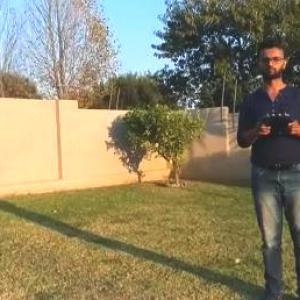follow: (233, 32, 300, 299)
